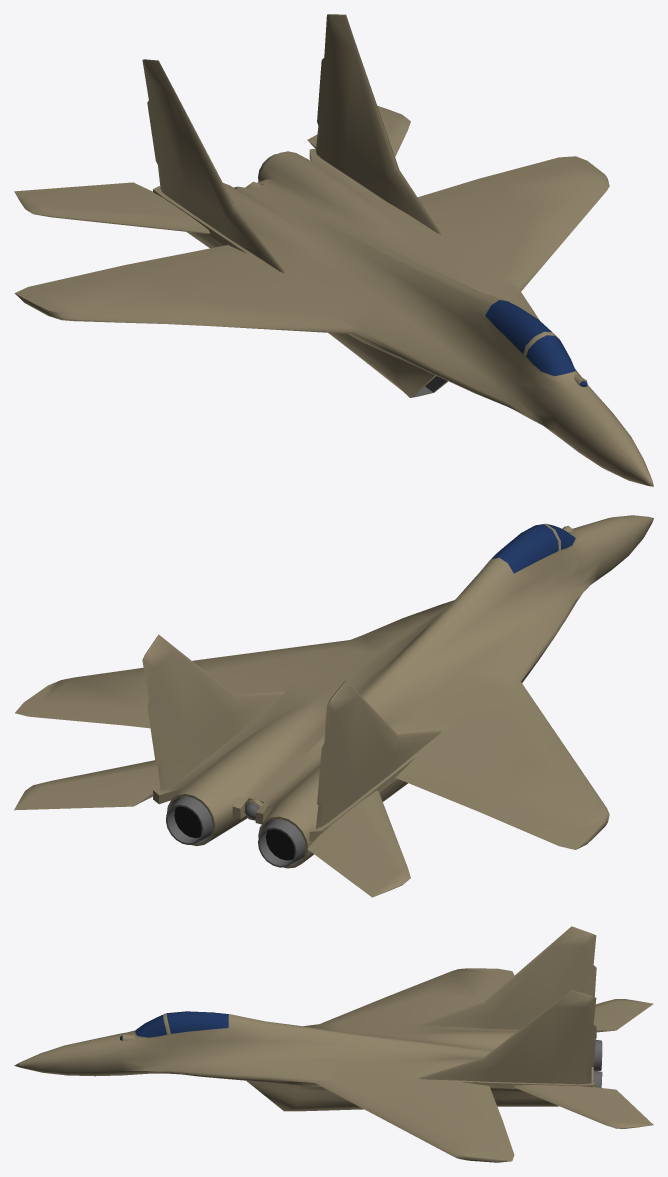
The model's file is mig29.glb.
The picture shows the model from 3 angles, top to bottom: view 1: azimuth 30°, elevation 25°; view 2: azimuth 150°, elevation 25°; view 3: azimuth 270°, elevation 25°; orthographic projection. The views are drawn at different scales.
Parts seen in each view (by area): view 1: mig29.001; view 2: mig29.001; view 3: mig29.001.
Part boxes in pixels (x1,y1,x2,y2): mig29.001: (14,14,653,486); mig29.001: (14,515,653,897); mig29.001: (14,926,653,1162).
Size of the model in its own units: 11.41 by 3.89 by 16.11.
